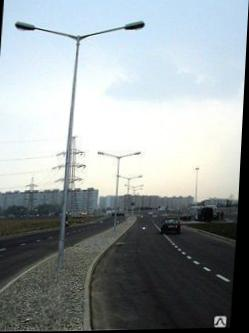Animal: (4, 8, 143, 279), (94, 143, 148, 234), (191, 166, 203, 206)
